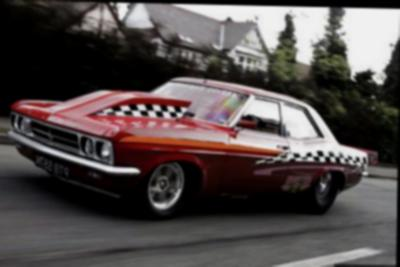License_Plate: (32, 152, 69, 180)
